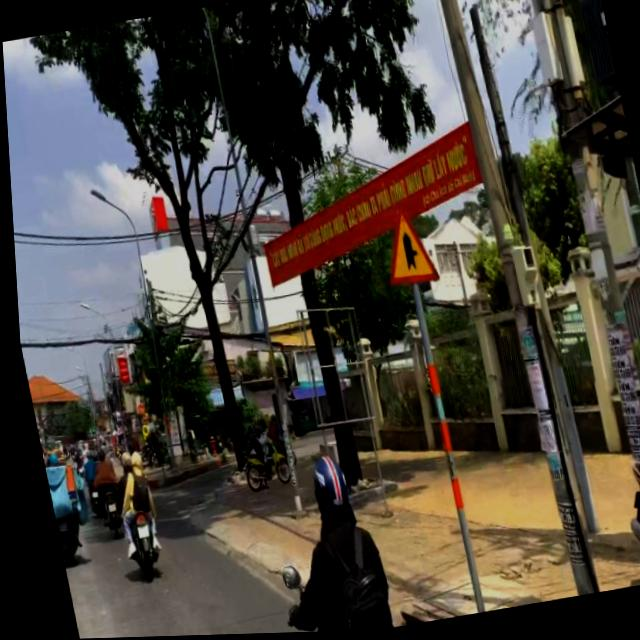Giao nhau voi duong khong uu tien ben phai: (370, 205, 441, 299)
